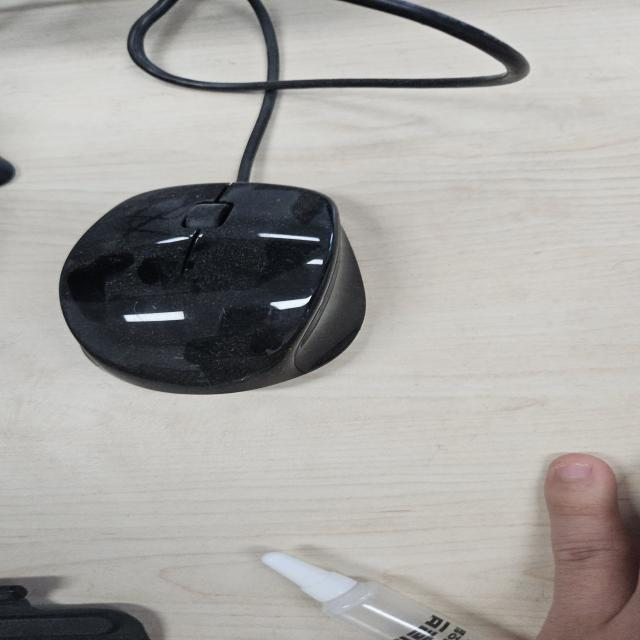Mouse: (56, 180, 370, 395)
